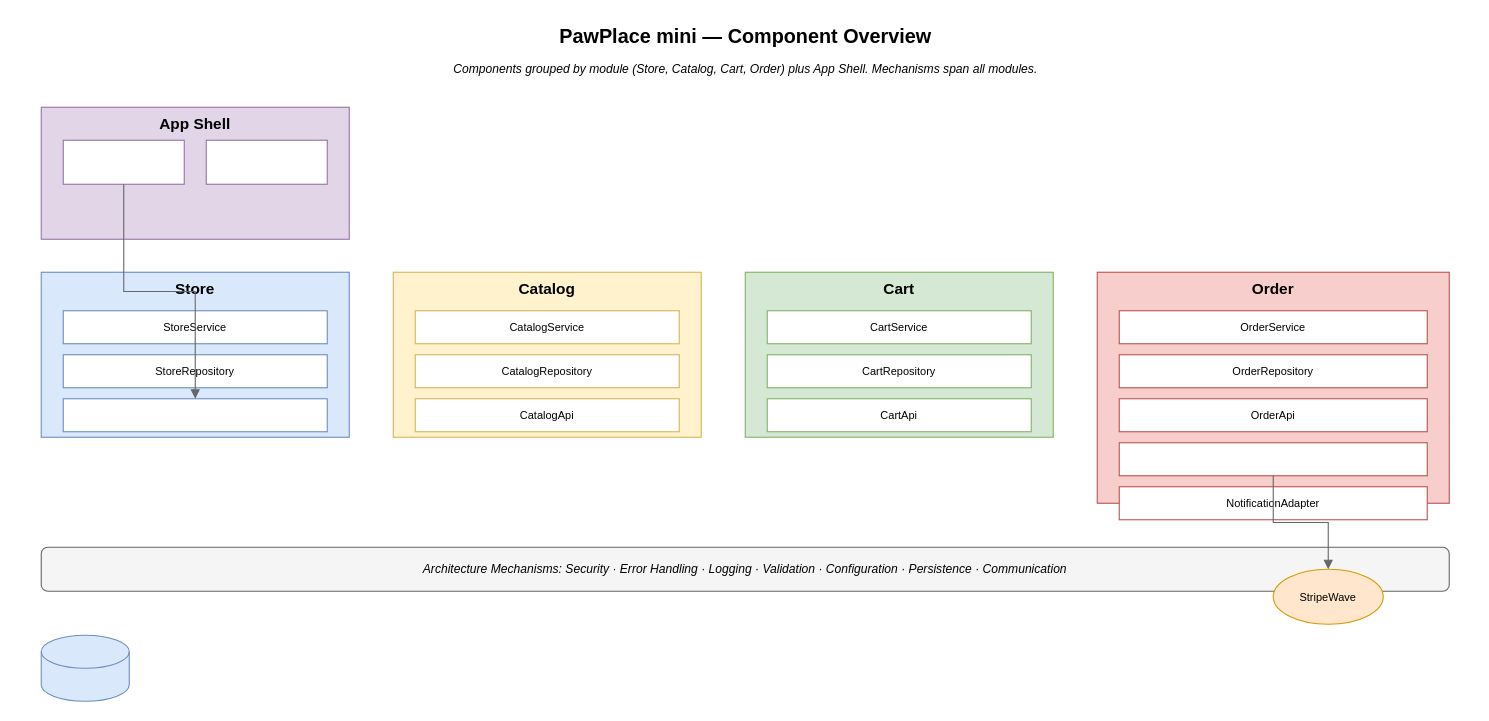
The diagram is 1489 pixels wide and 721 high, and some of its shapes have lost their labels. The shapes that lost their labels are listed below. From the top down, each one's centre as x and y in pixels, then its label:
At [123,161]: "AppServerHost".
At [266,161]: "AppClientShell".
At [194,415]: "StoreApi".
At [1272,459]: "PaymentGatewayAdapter".
At [84,667]: "MongoDB".
